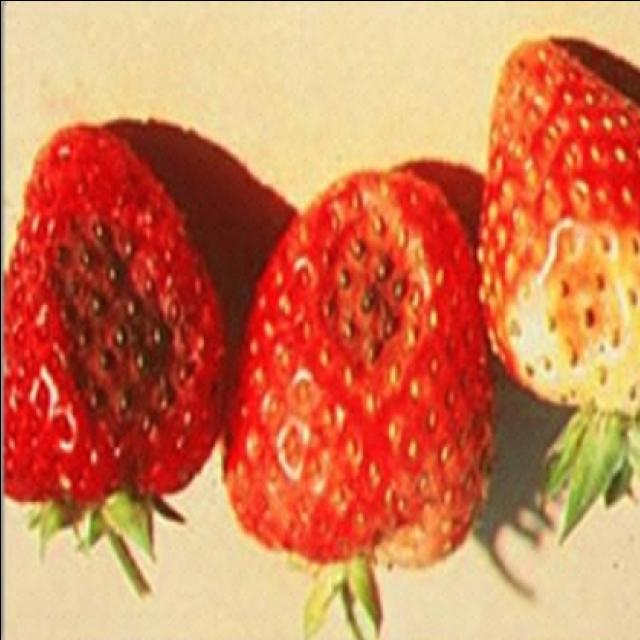Anthracnose Fruit Rot: (74, 229, 154, 397), (326, 258, 400, 350)
